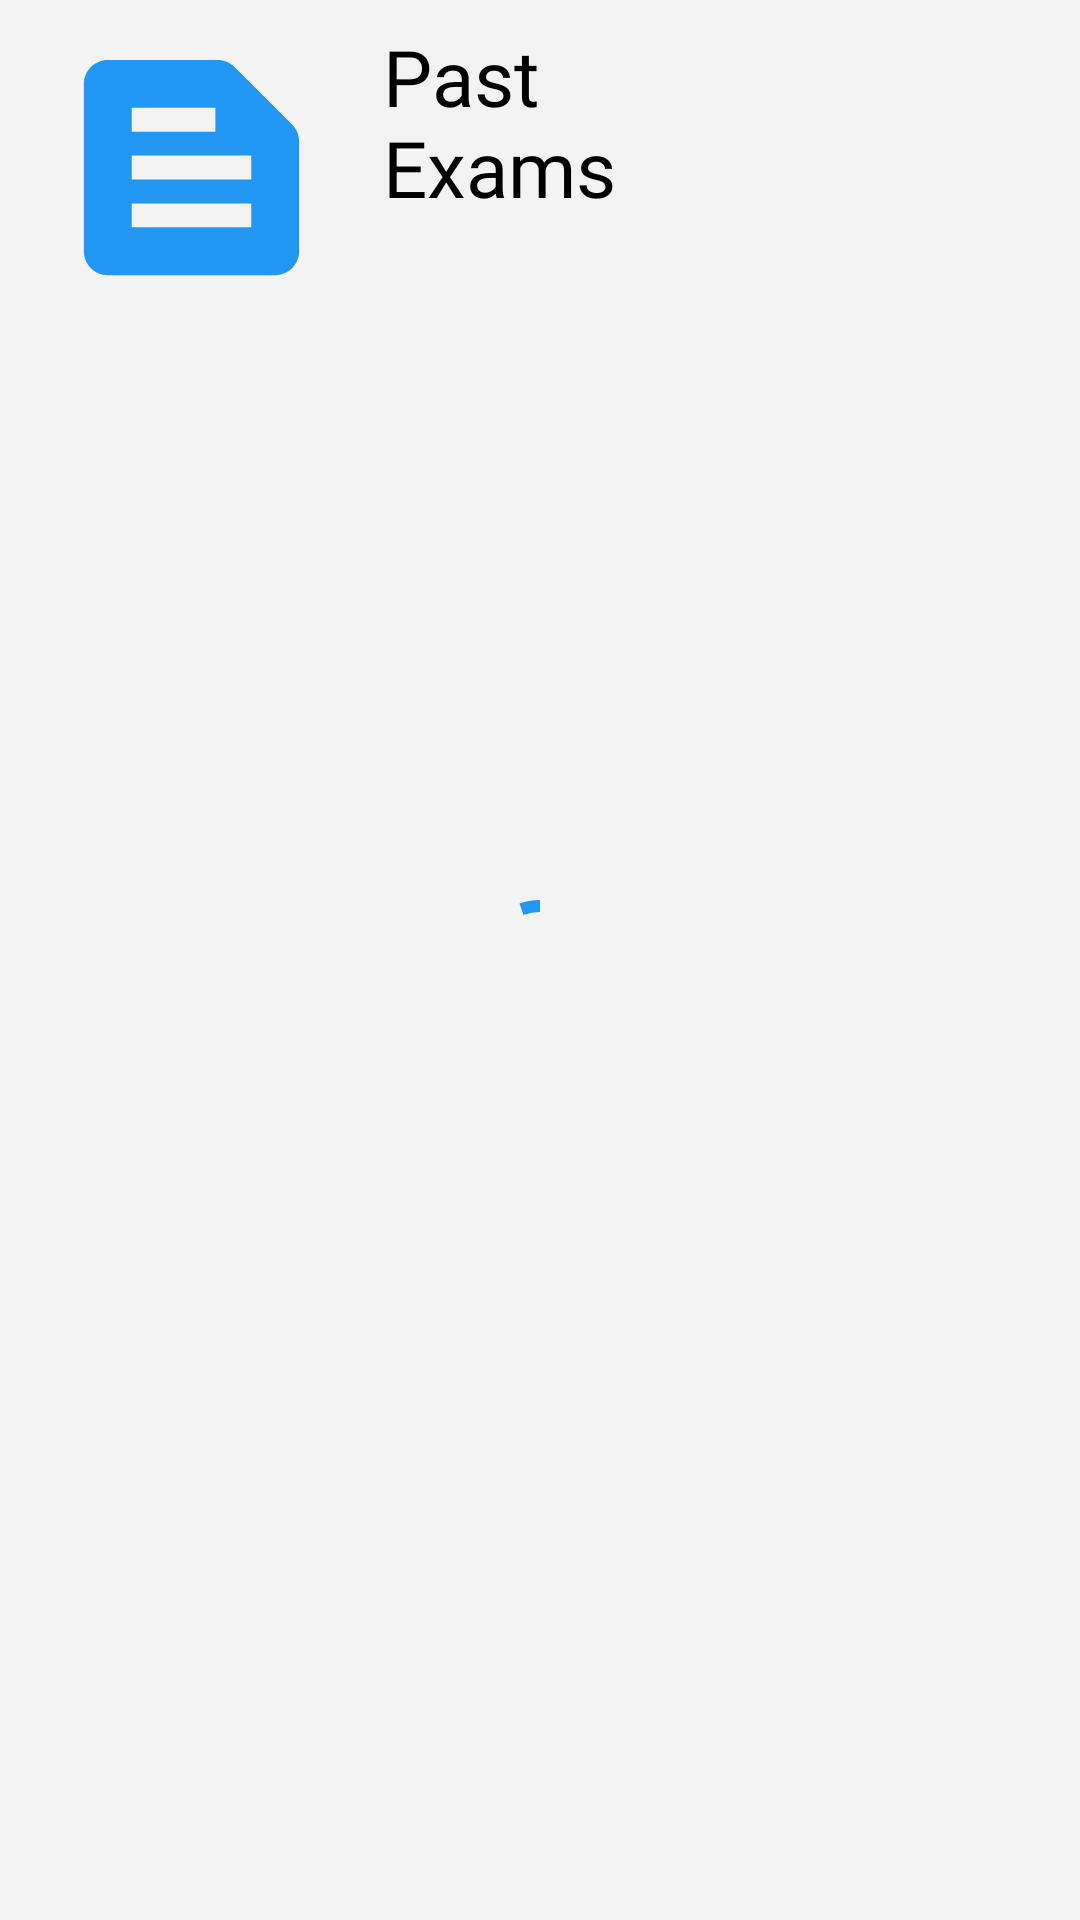

Icon bounding boxes for this 1080x1920 phone screenshot, format (x1,y1,x2,y2):
topics: (83,60,300,276)
